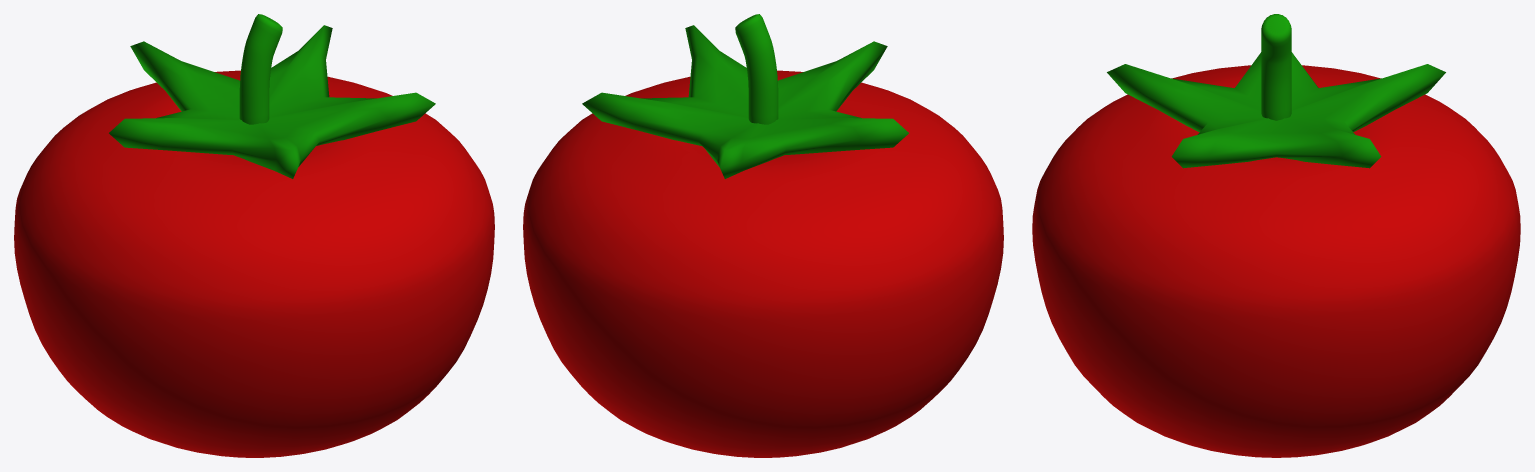
The model's file is Tomato2.fbx.
3 renders of one model, left to right at view 1: azimuth 30°, elevation 25°; view 2: azimuth 150°, elevation 25°; view 3: azimuth 270°, elevation 25°, orthographic.
Parts seen in each view (by area): view 1: pCylinder4; view 2: pCylinder4; view 3: pCylinder4.
Part boxes in pixels (x1,y1,x2,y2): pCylinder4: (14, 14, 494, 457); pCylinder4: (523, 14, 1003, 457); pCylinder4: (1032, 14, 1520, 457).
Size of the model in its own units: 4.67 by 4.41 by 4.67.
